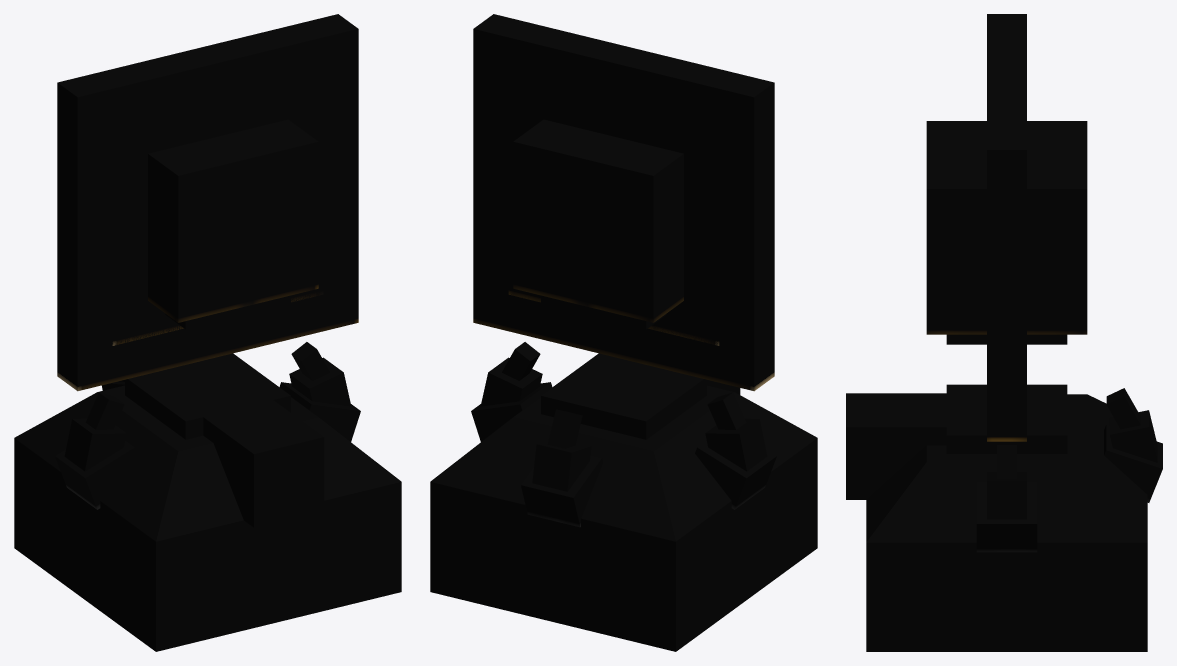
File: inspiration_engine.obj
3 renders of one model, left to right at view 1: azimuth 30°, elevation 25°; view 2: azimuth 150°, elevation 25°; view 3: azimuth 270°, elevation 25°, orthographic.
Visible parts, largest first — view 1: st3, st2, st1, st4, cube, st5; view 2: st2, st3, st1, st4, st5, st6; view 3: st2, st1, st3, cube, st4, st5, st6.
Part boxes in pixels (x1,y1,x2,y2): st3: [57, 14, 360, 471]; st2: [14, 119, 401, 541]; st1: [14, 438, 401, 651]; st4: [85, 74, 351, 429]; cube: [203, 400, 324, 527]; st5: [119, 342, 329, 381]; st2: [430, 119, 817, 541]; st3: [471, 14, 774, 471]; st1: [430, 438, 817, 651]; st4: [480, 74, 746, 527]; st5: [502, 342, 591, 491]; st6: [547, 409, 582, 448]; st2: [866, 121, 1147, 542]; st1: [866, 542, 1147, 651]; st3: [946, 14, 1067, 552]; cube: [846, 393, 946, 499]; st4: [987, 425, 1162, 519]; st5: [997, 410, 1157, 478]; st6: [1106, 388, 1140, 429].
Bounding box in the file's own units: 1 × 1.75 × 0.9845.
